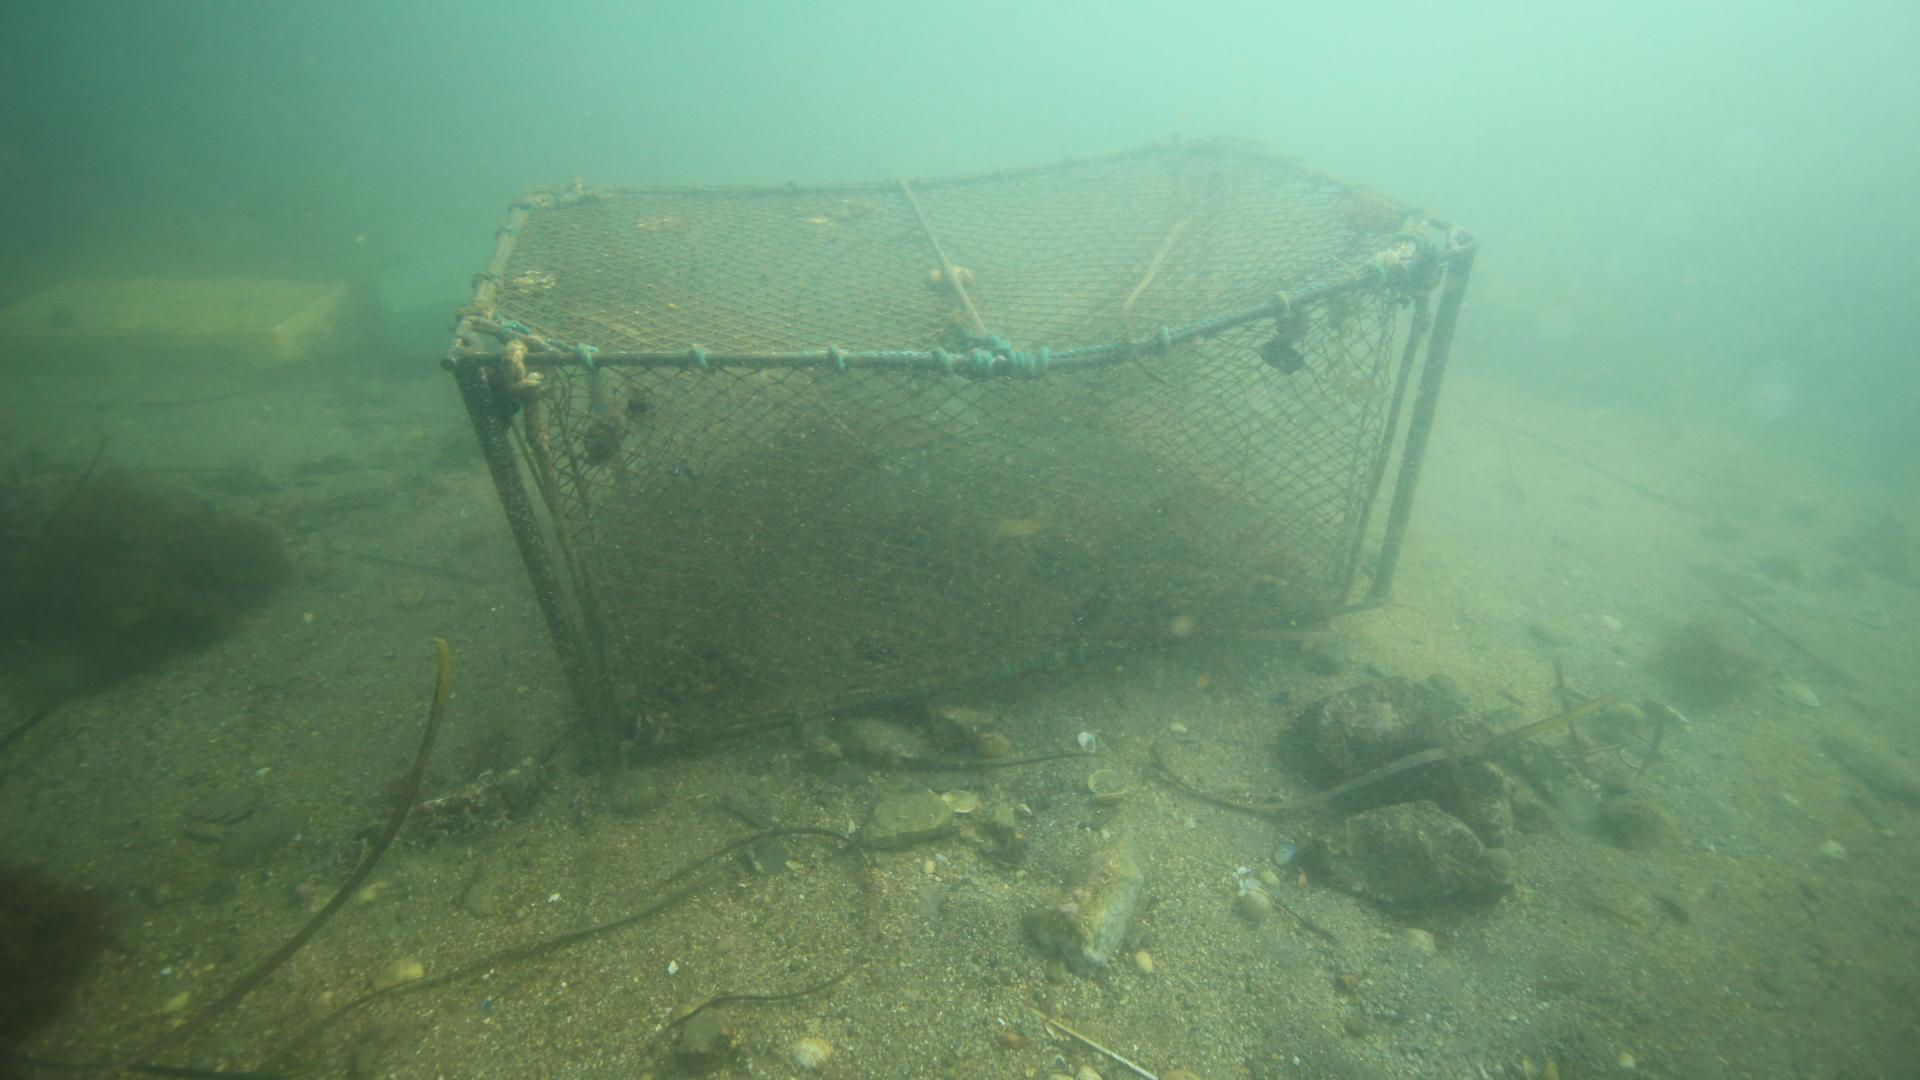rectangular fish trap: (447, 127, 1480, 762)
